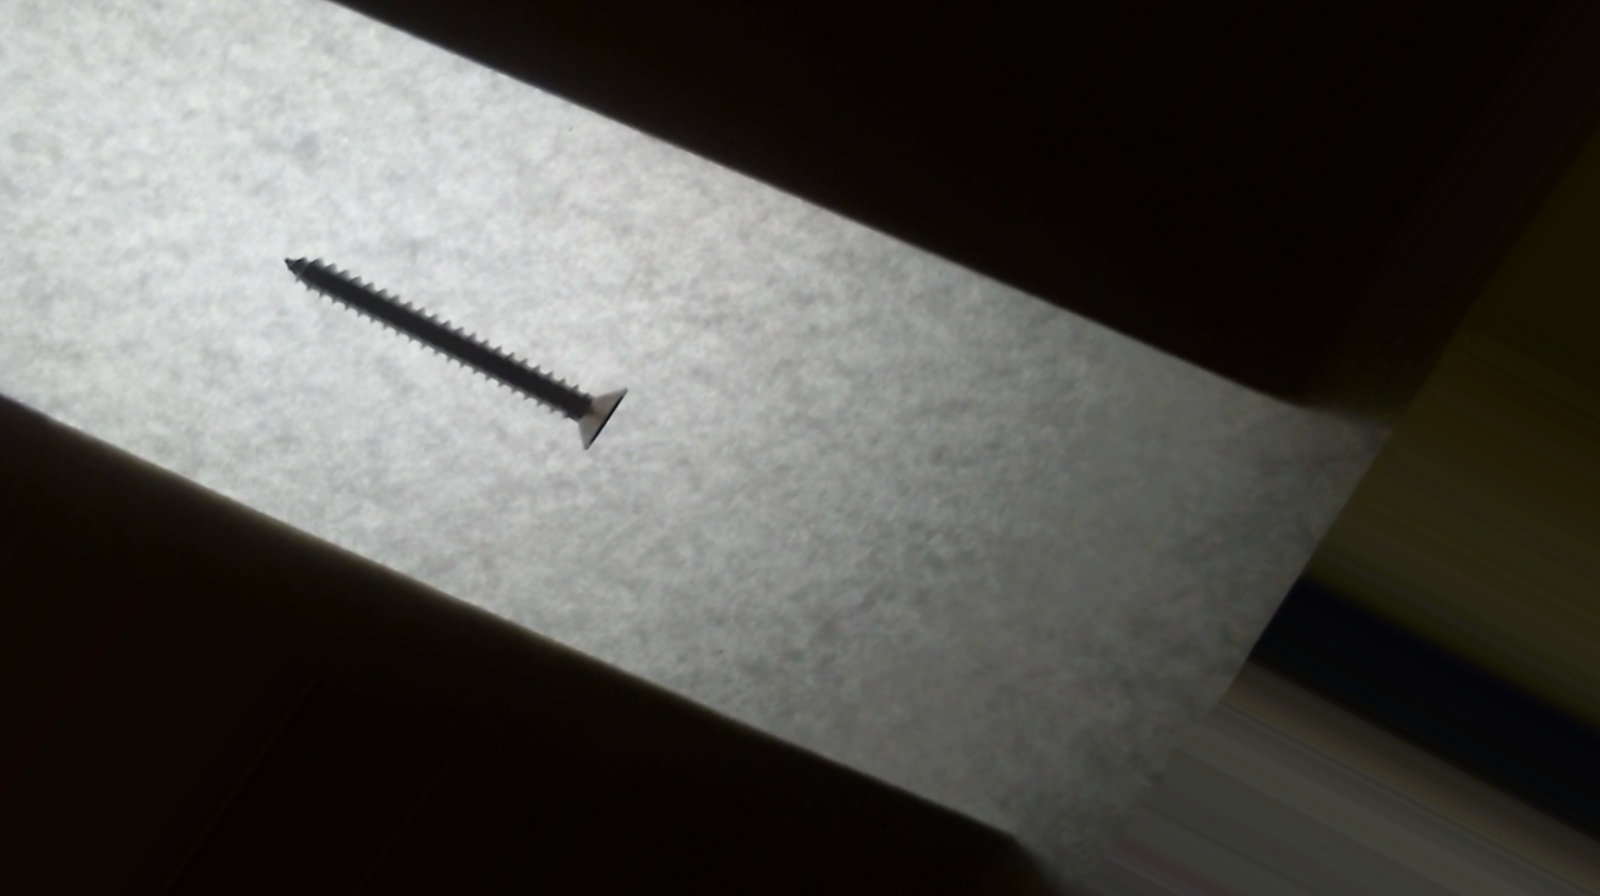S002: (262, 215, 641, 452)
